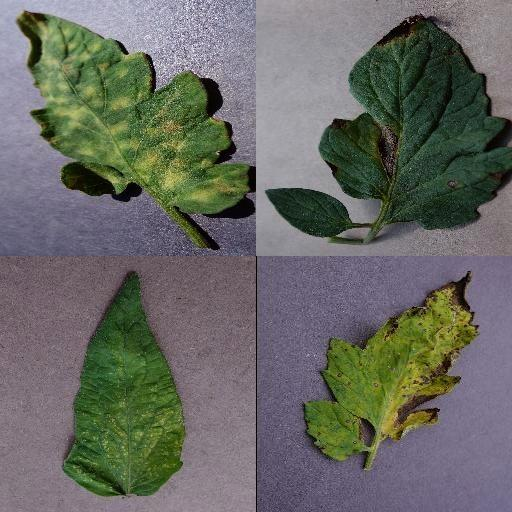Early Blight: (320, 13, 512, 229)
Leaf Mold: (17, 9, 252, 217)
Septoria: (303, 272, 479, 462)
Spider Mites: (63, 271, 187, 497)
